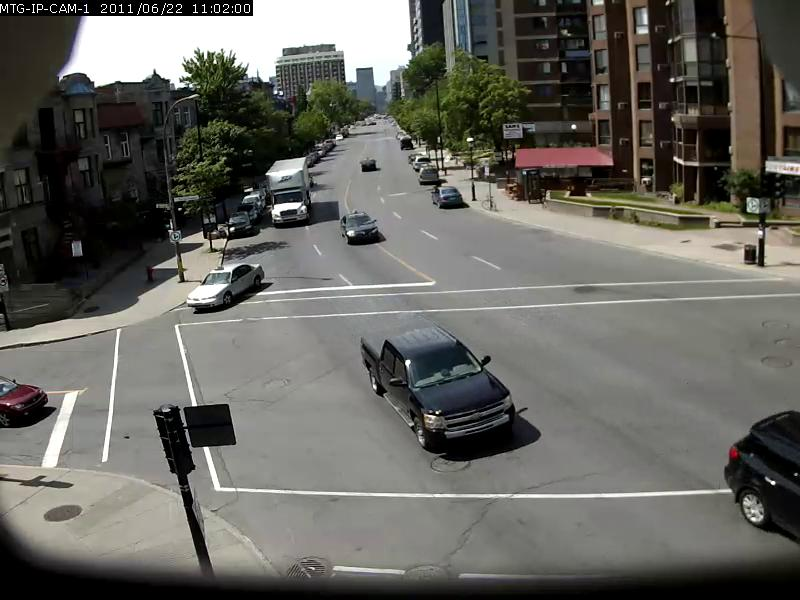Car: (352, 315, 517, 451), (185, 264, 267, 312), (340, 211, 380, 246)
Truck: (265, 157, 312, 227)
